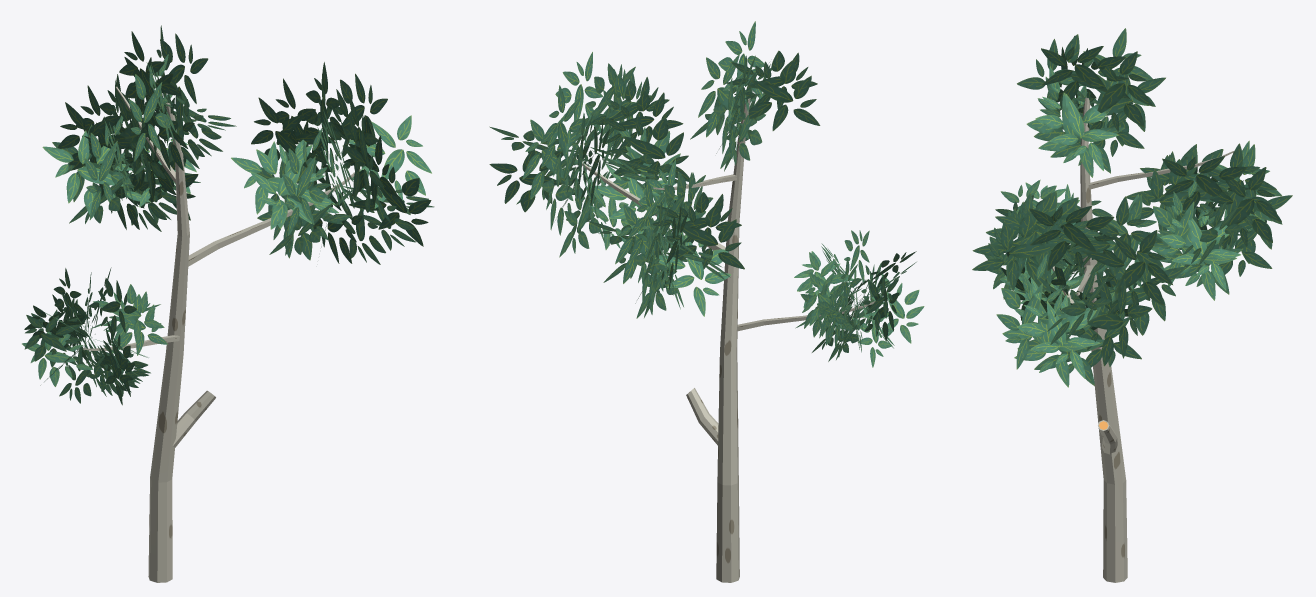
Rendered from eucalyptus_big_fixed.fbx.
The picture shows the model from 3 angles, left to right: view 1: azimuth 30°, elevation 25°; view 2: azimuth 150°, elevation 25°; view 3: azimuth 270°, elevation 25°; orthographic projection. The views are drawn at different scales.
Visible parts, largest first — view 1: Eucalyptus_Trunk; view 2: Eucalyptus_Trunk; view 3: Eucalyptus_Trunk.
Part boxes in pixels (<box>): Eucalyptus_Trunk: <box>22,25,434,582</box>; Eucalyptus_Trunk: <box>489,21,924,582</box>; Eucalyptus_Trunk: <box>972,28,1292,582</box>.
Size of the model in its own units: 588 by 758 by 425.
